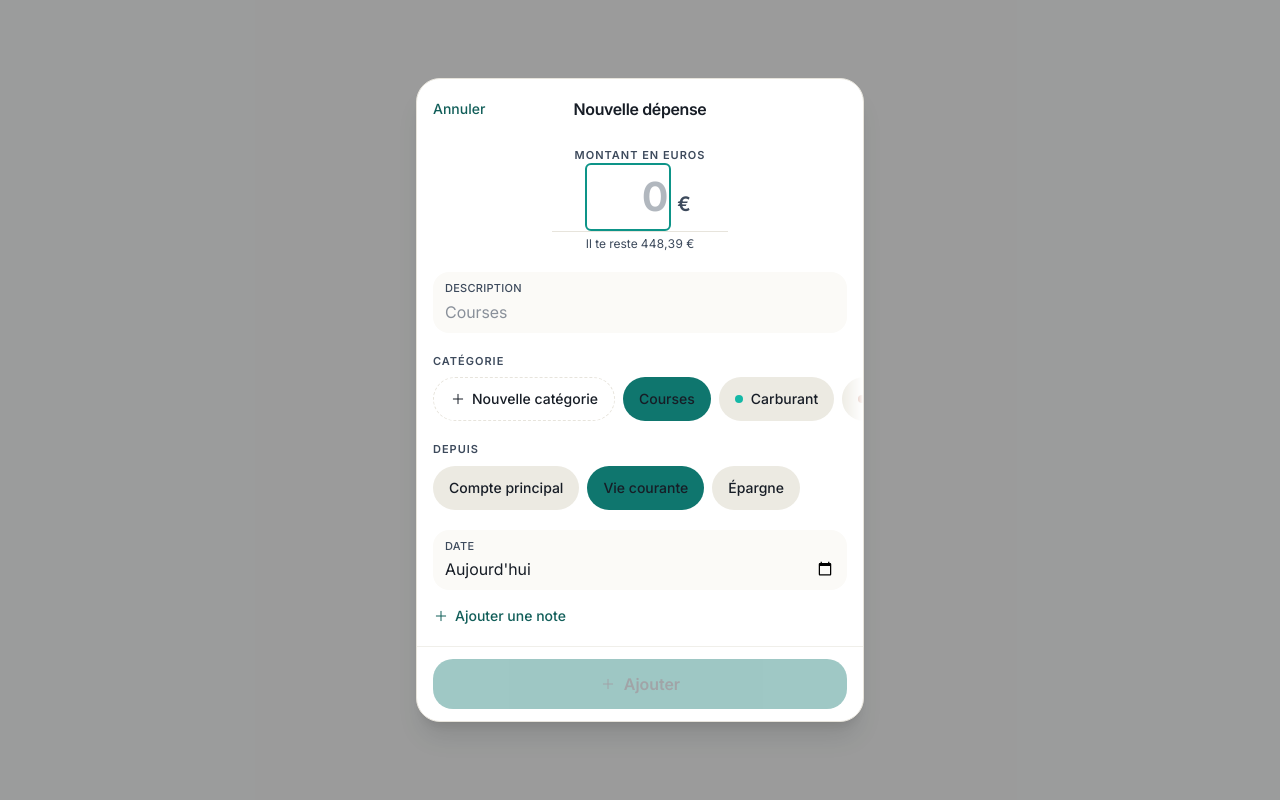
Test case: AddExpenseSheet — créer une catégorie › ouvre la ligne de création et pré-choisit une couleur
Expected: the text "Il te reste 448,39 €" is shown, 586,236 -> 694,252
Click the button with test id "add-expense-new-category".
click(524, 399)  # box 433,377 -> 615,421
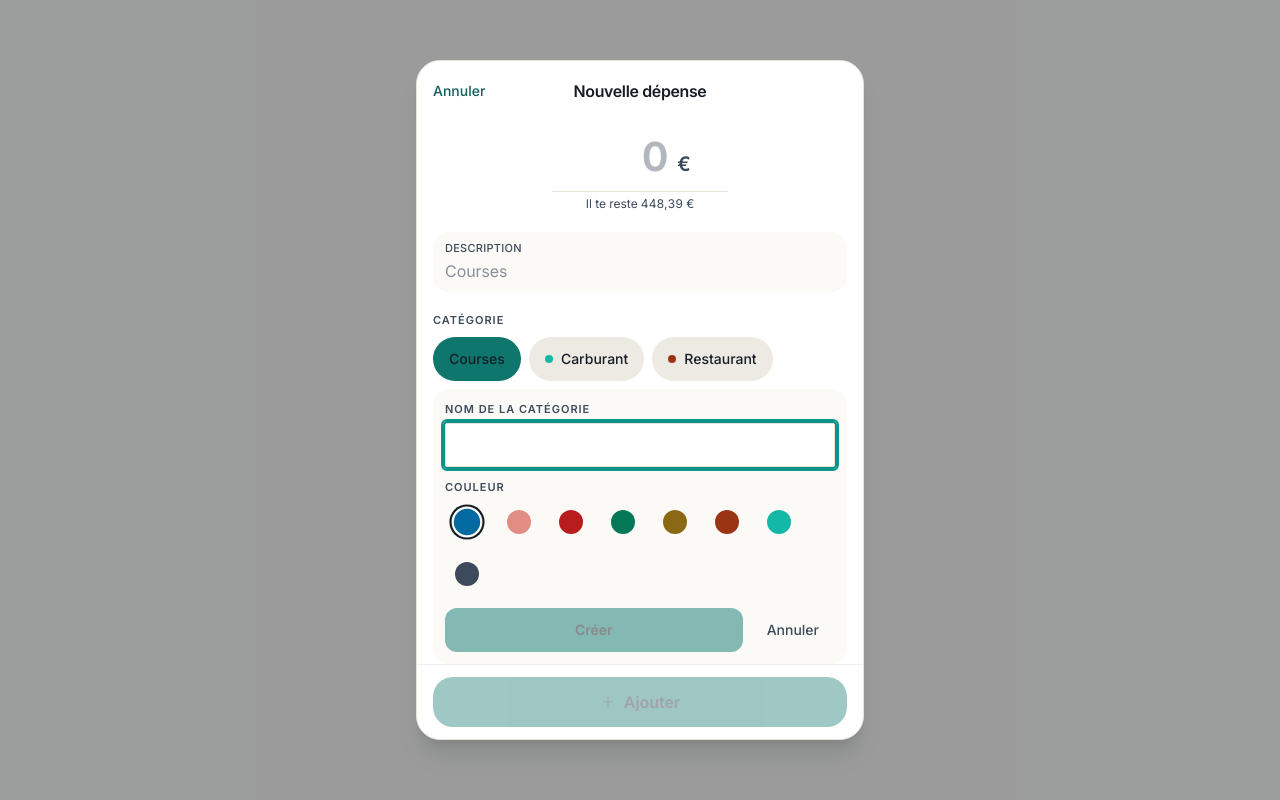
Now the field with test id "add-expense-new-category-name" is shown, box 445,423 -> 835,467
